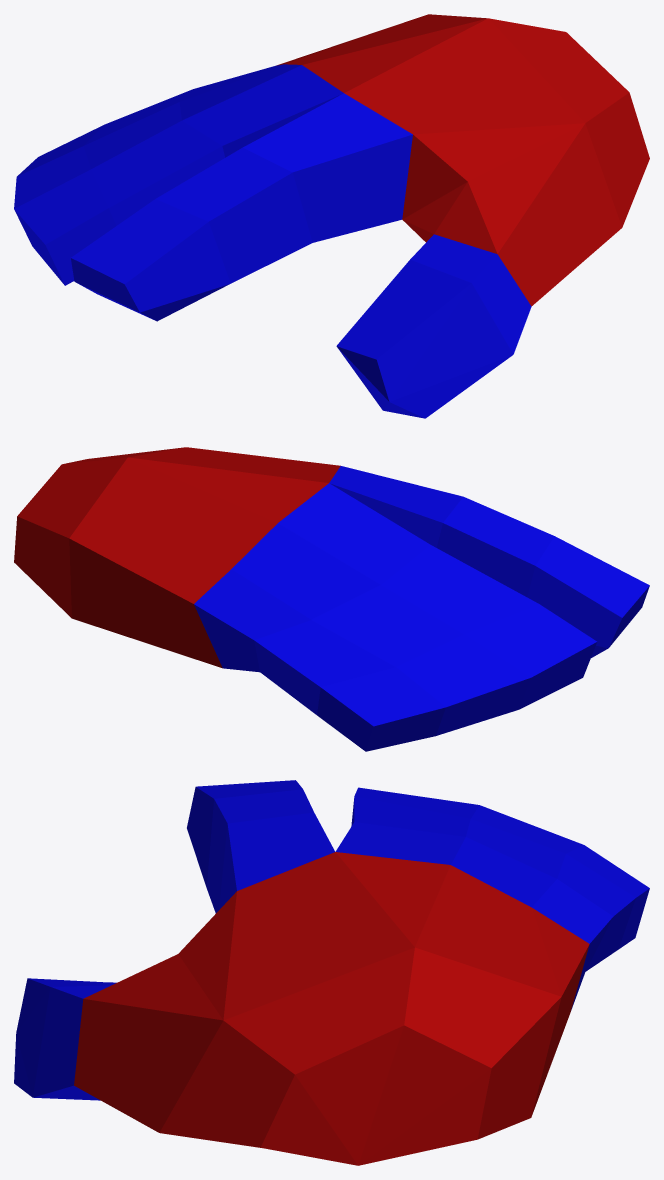
The model's file is Chr_HandRight_Male_Static_07.fbx.
3 renders of one model, top to bottom at view 1: azimuth 30°, elevation 25°; view 2: azimuth 150°, elevation 25°; view 3: azimuth 270°, elevation 25°, orthographic. The views are drawn at different scales.
Parts seen in each view (by area): view 1: Chr_HandRight_Male_07; view 2: Chr_HandRight_Male_07; view 3: Chr_HandRight_Male_07.
Boxes of the visible parts, <box> form: Chr_HandRight_Male_07: <box>14,14,649,418</box>; Chr_HandRight_Male_07: <box>14,447,649,751</box>; Chr_HandRight_Male_07: <box>14,780,649,1165</box>.
Bounding box in the file's own units: 23.35 × 9.52 × 18.8.
